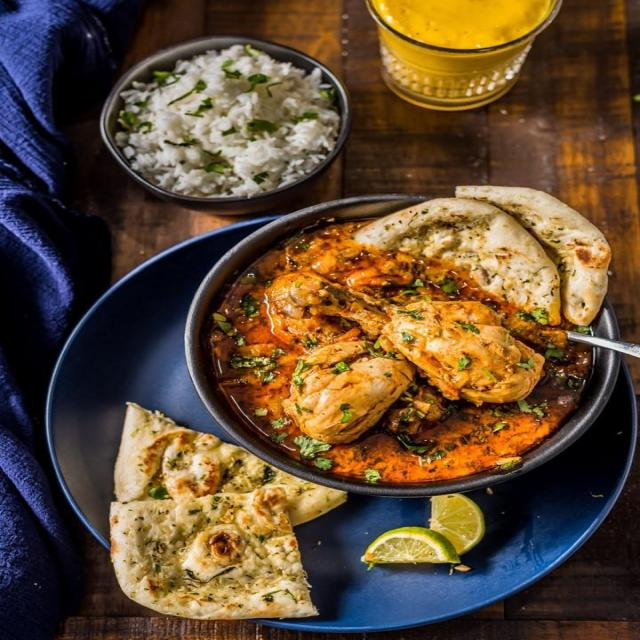chicken: (193, 220, 598, 470)
rice: (107, 47, 340, 196)
roti: (98, 423, 344, 640), (376, 172, 622, 298)
